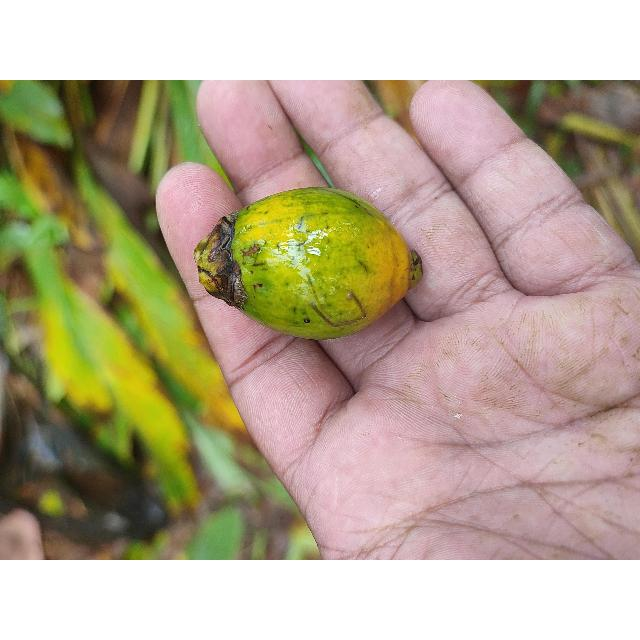good: (196, 187, 422, 341)
